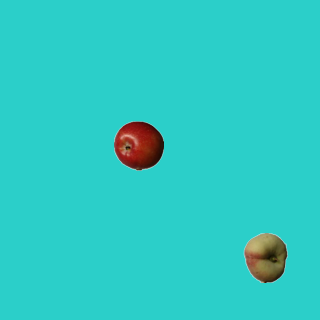Apple Braeburn: (113, 120, 163, 170)
Peach Flat: (240, 232, 290, 282)
